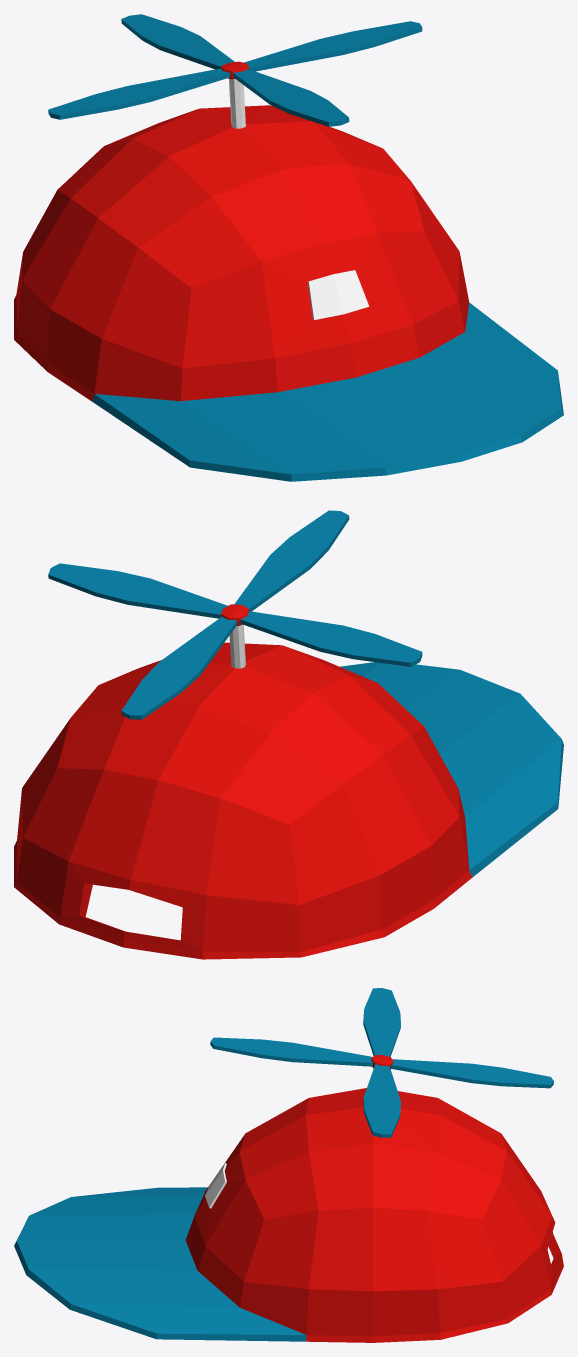
Rendered from Propeller_hat_01.obj.
The picture shows the model from 3 angles, top to bottom: view 1: azimuth 30°, elevation 25°; view 2: azimuth 150°, elevation 25°; view 3: azimuth 270°, elevation 25°; orthographic projection. The views are drawn at different scales.
Visible parts, largest first — view 1: PropellerCap_01_Roundcube.001; view 2: PropellerCap_01_Roundcube.001; view 3: PropellerCap_01_Roundcube.001.
Part boxes in pixels (x1=…): PropellerCap_01_Roundcube.001: x1=14, y1=14, x2=563, y2=481; PropellerCap_01_Roundcube.001: x1=14, y1=510, x2=563, y2=959; PropellerCap_01_Roundcube.001: x1=14, y1=988, x2=563, y2=1342.
Size of the model in its own units: 6.77 by 4.64 by 10.27.
